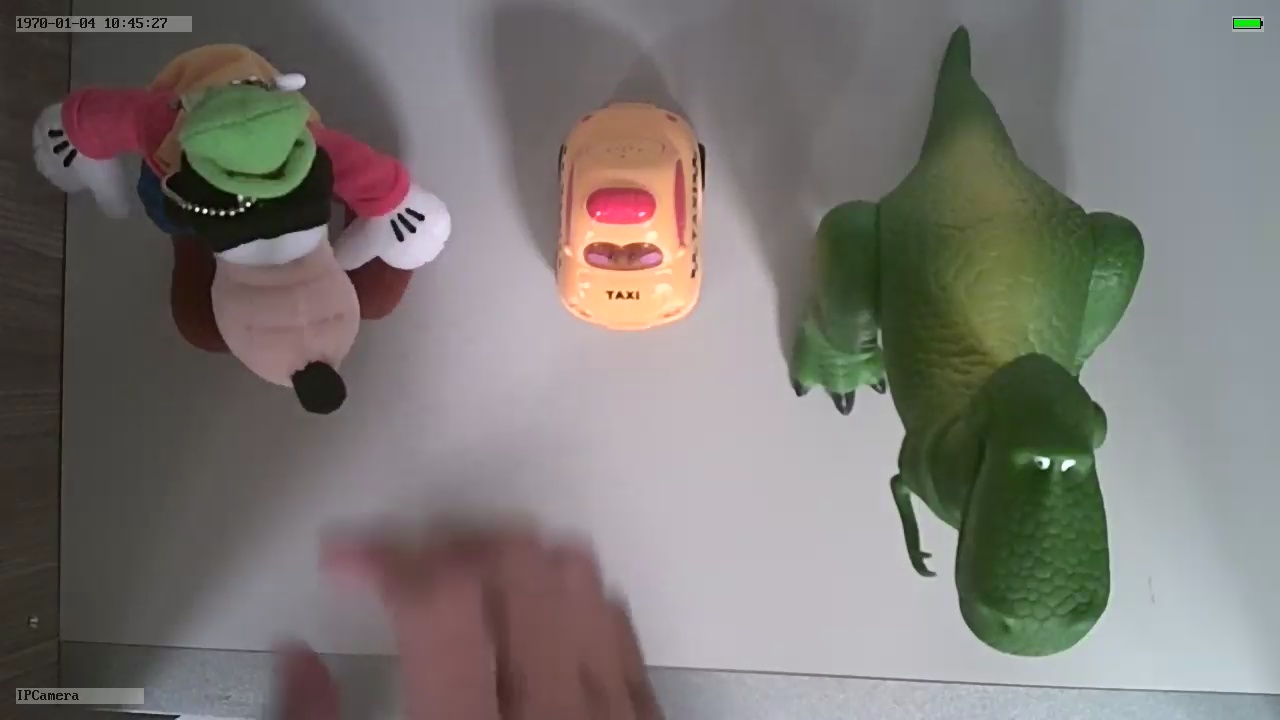car: (553, 96, 712, 334)
goofy: (28, 37, 453, 416)
rex: (789, 119, 1145, 655)
